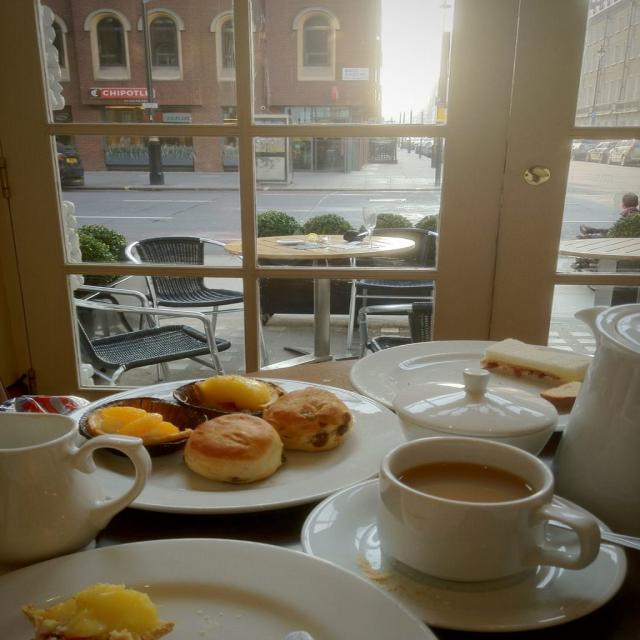Tea: (399, 462, 530, 502)
